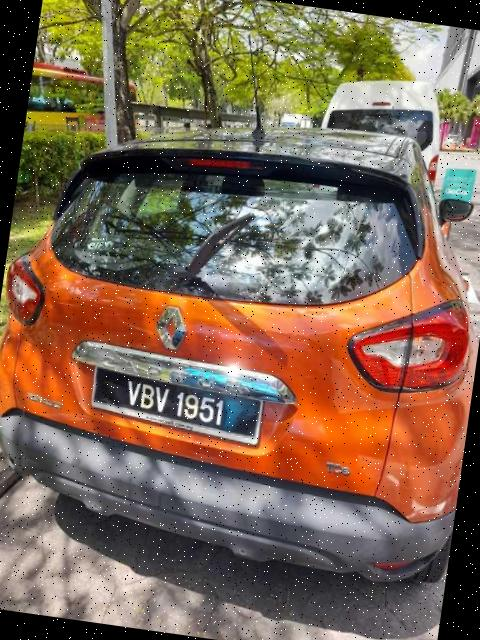License_Plate: (88, 365, 268, 447)
car: (1, 84, 480, 594)
